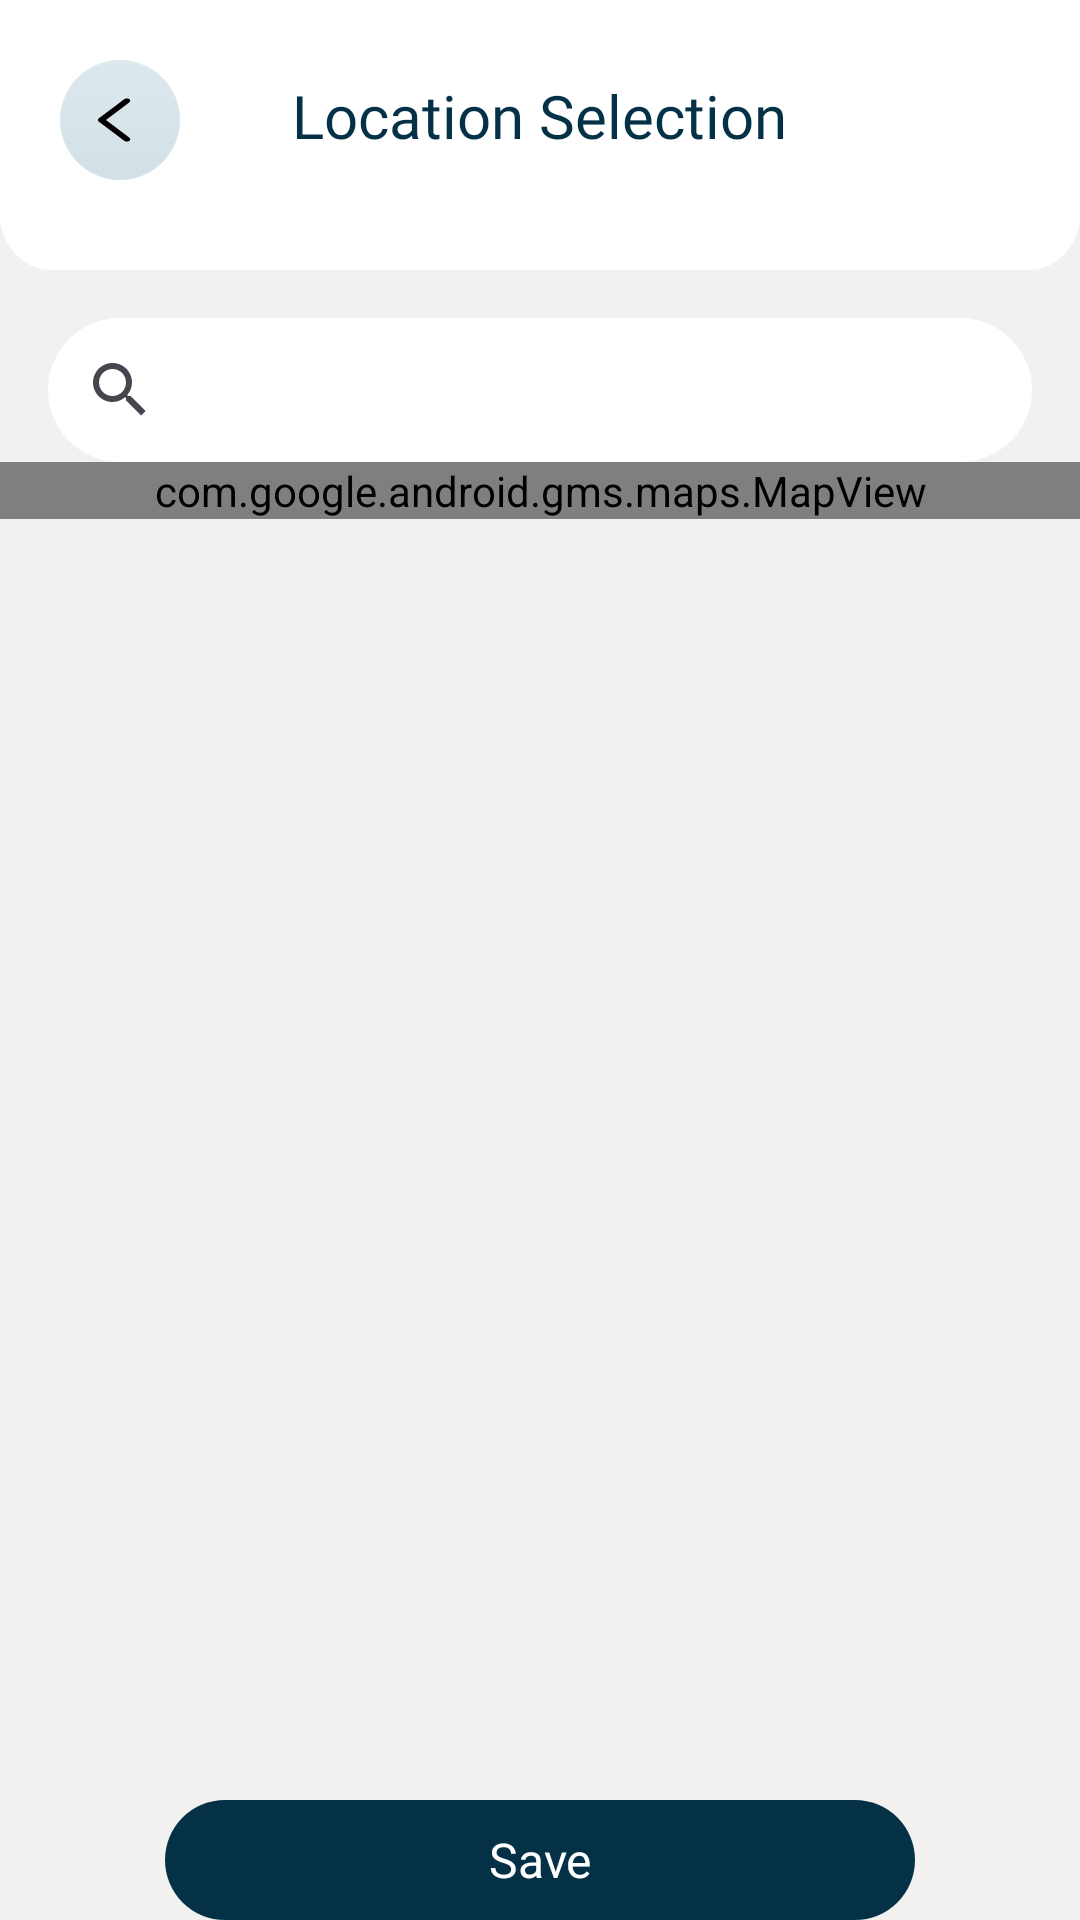

Point at icon controls on the screen. Image size 1080px x 1920px, points as [x,y].
back arrow: [114,120]
